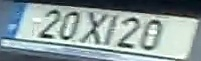0: (137, 17, 163, 52), (57, 9, 81, 41)
2: (114, 15, 142, 50), (35, 7, 61, 40)
I: (102, 12, 118, 47)
X: (78, 11, 109, 46)
